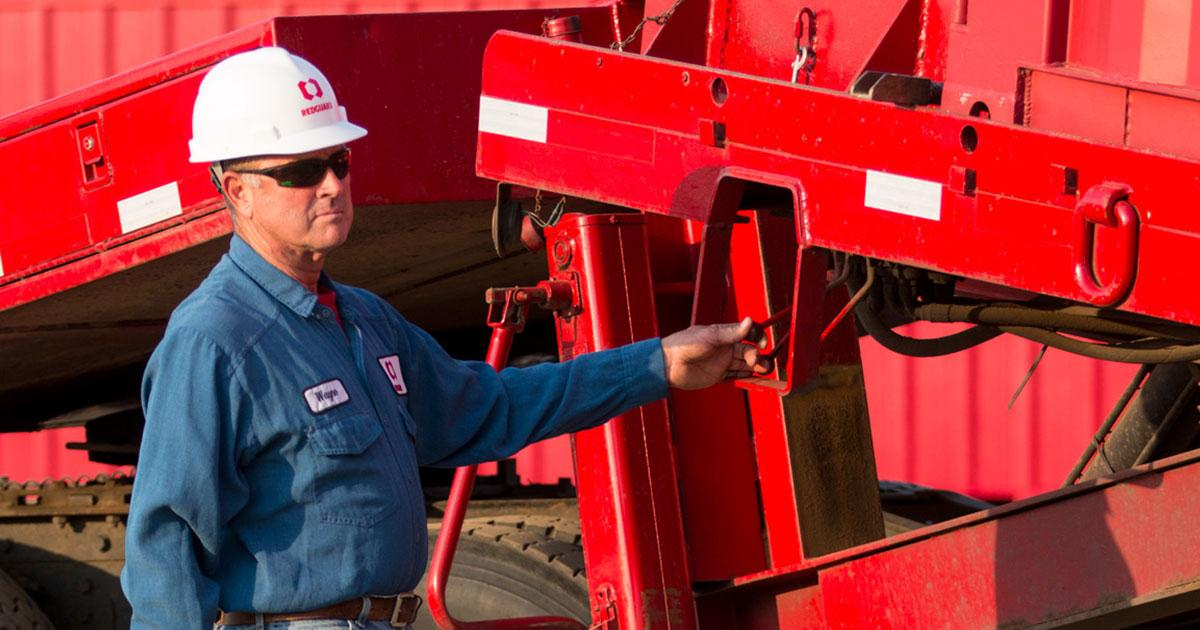helmet: (190, 48, 367, 159)
